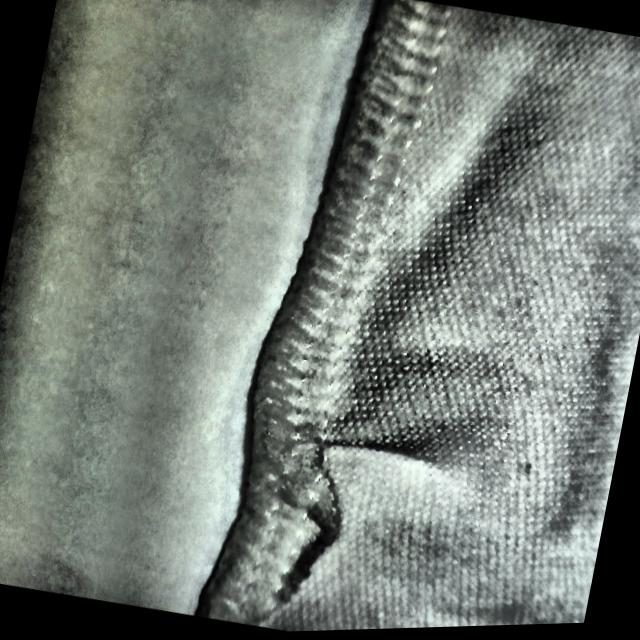seam: (214, 378, 442, 628)
